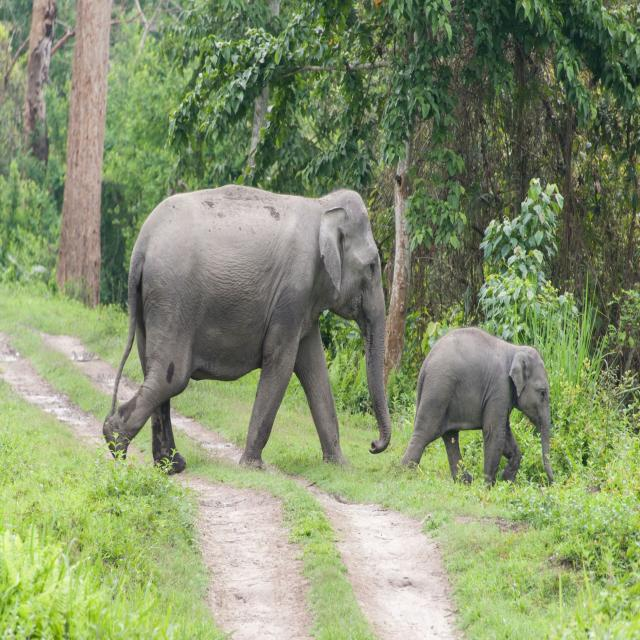Elephant: (94, 167, 396, 514), (406, 326, 560, 498)
